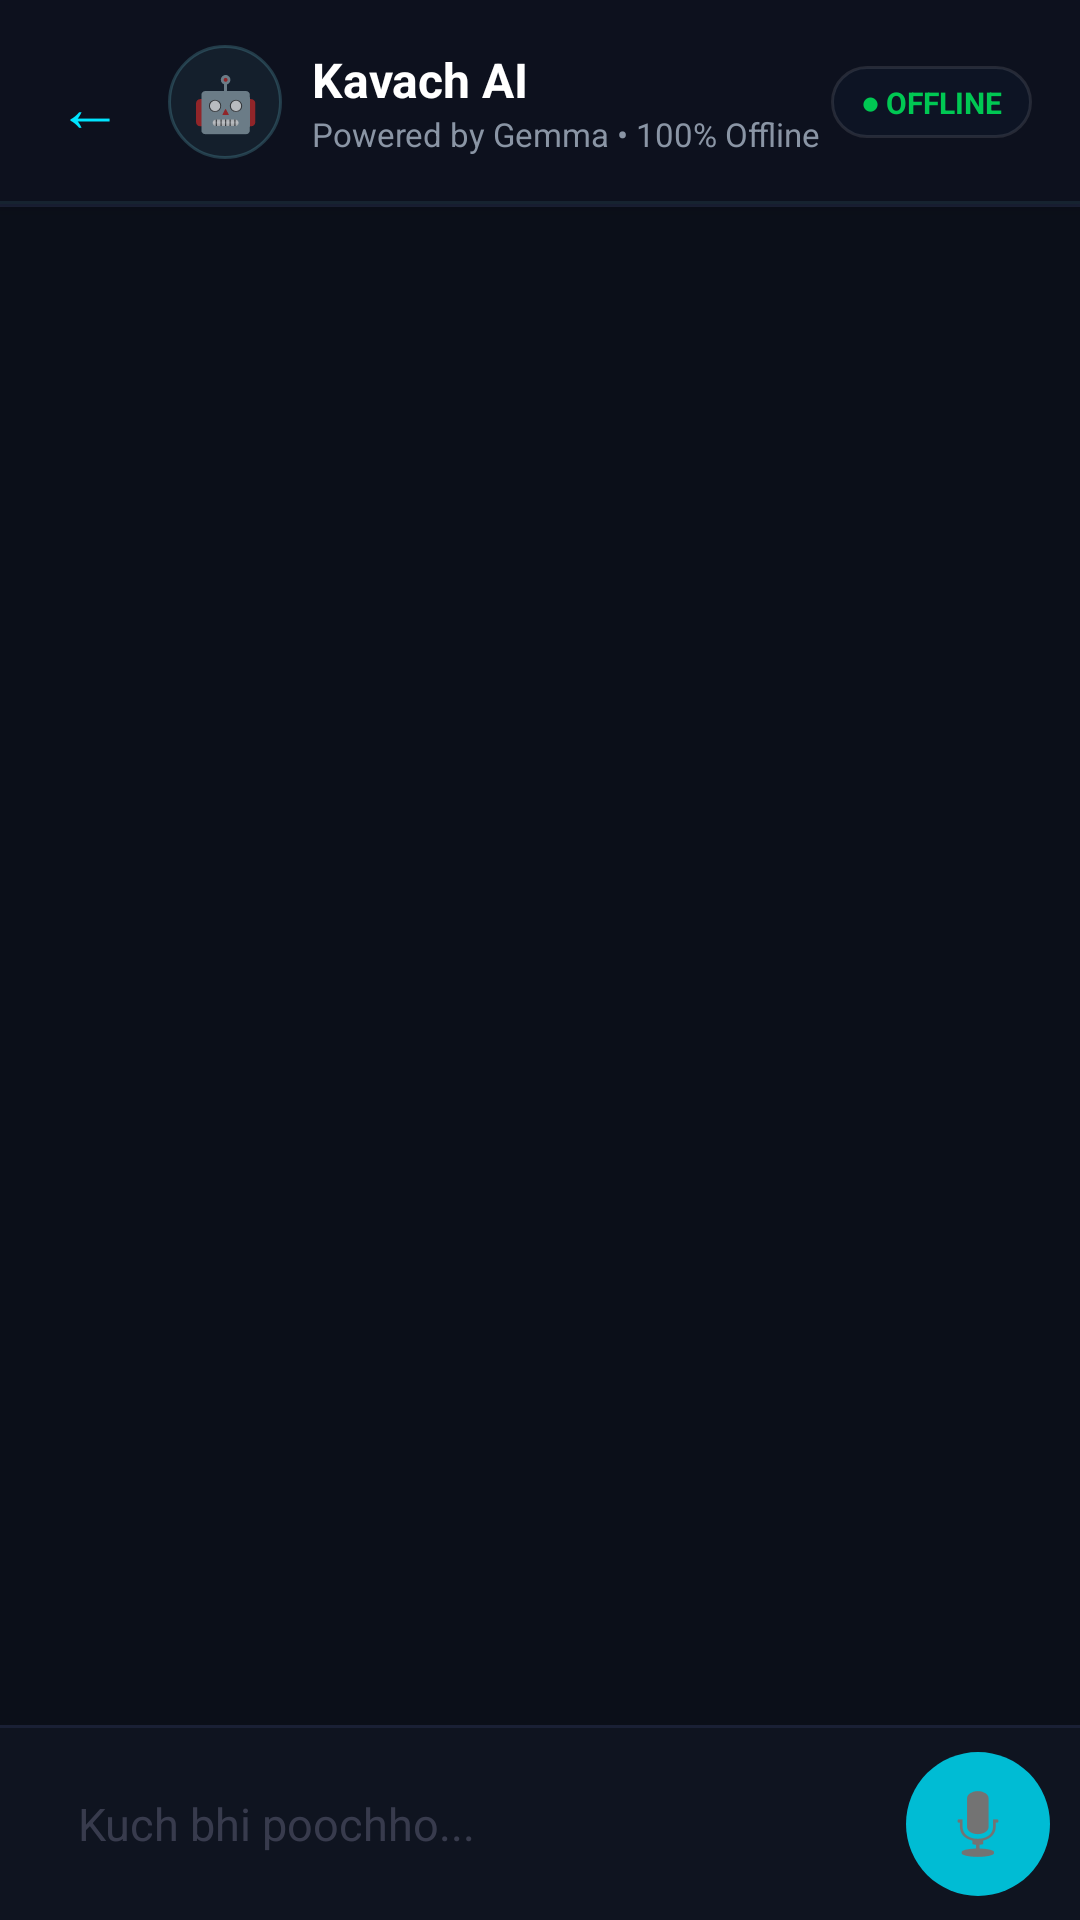

Locate icon controls on the screen. Image size 1080px×1920px, boxes as (x1, y1, x2, y2).
Voice input: (906, 1752, 1050, 1896)
